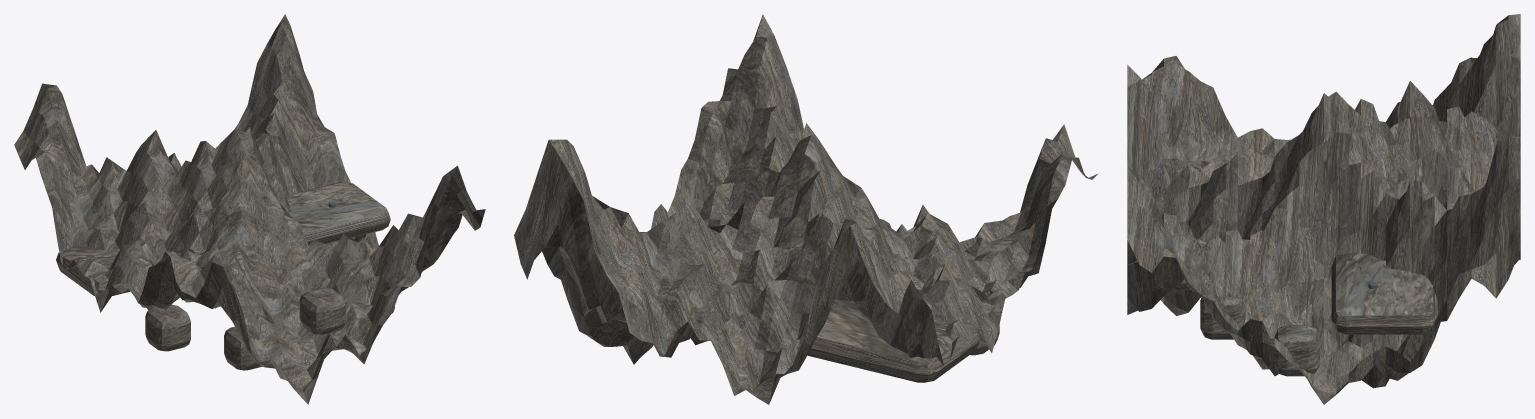
The model's file is cliff_face.glb.
3 renders of one model, left to right at view 1: azimuth 30°, elevation 25°; view 2: azimuth 150°, elevation 25°; view 3: azimuth 270°, elevation 25°, orthographic. The views are drawn at different scales.
Visible parts, largest first — view 1: CliffMass, CliffShelf, CliffRock2, CliffRock4, CliffRock3; view 2: CliffMass, CliffShelf; view 3: CliffMass, CliffShelf, CliffRock0, CliffRock1.
Boxes of the visible parts, x1,y1,x2,y2 form: CliffMass: [14, 14, 485, 404]; CliffShelf: [56, 182, 390, 295]; CliffRock2: [299, 288, 345, 334]; CliffRock4: [145, 304, 190, 351]; CliffRock3: [224, 326, 267, 370]; CliffMass: [514, 14, 1098, 404]; CliffShelf: [620, 299, 980, 382]; CliffMass: [1127, 14, 1520, 404]; CliffShelf: [1331, 252, 1437, 334]; CliffRock0: [1274, 325, 1319, 376]; CliffRock1: [1200, 296, 1245, 339].
Bounding box in the file's own units: 26 × 18.96 × 26.
Materials: 2 (2 with a texture image).
